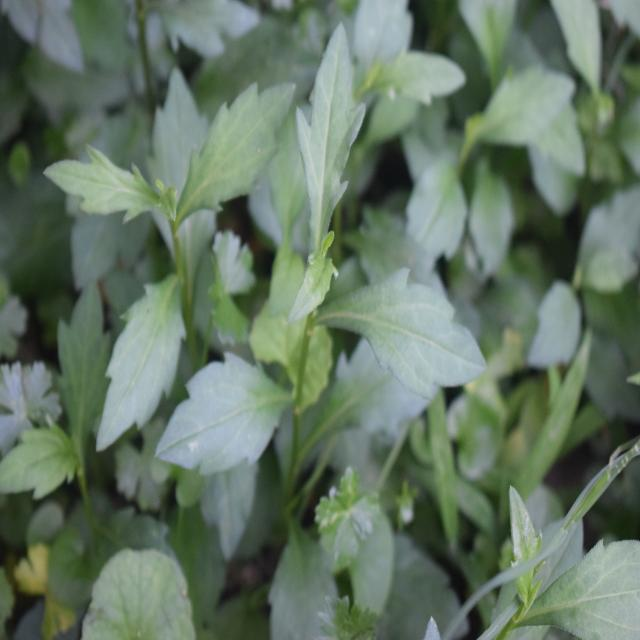Indian aster: (230, 44, 472, 482), (74, 82, 287, 478)
